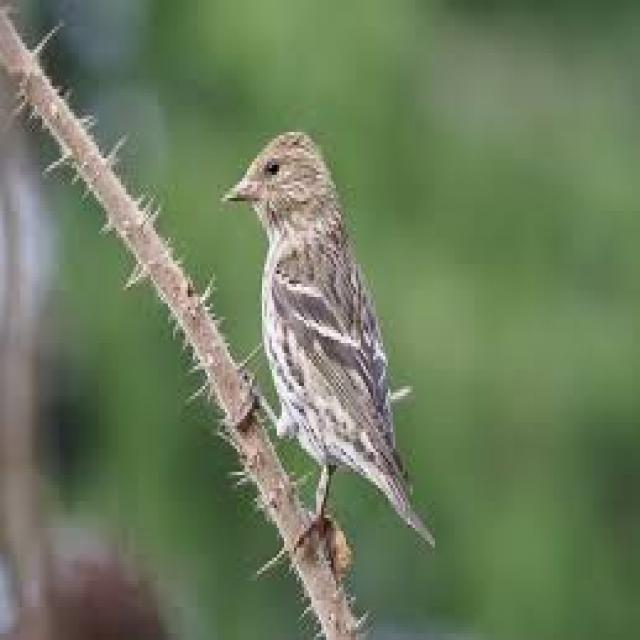bird: (222, 92, 462, 640)
